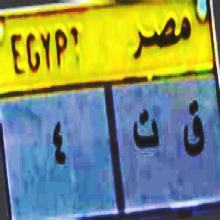4: (48, 118, 73, 178)
qaaf: (181, 97, 206, 165)
taa: (131, 100, 162, 164)
